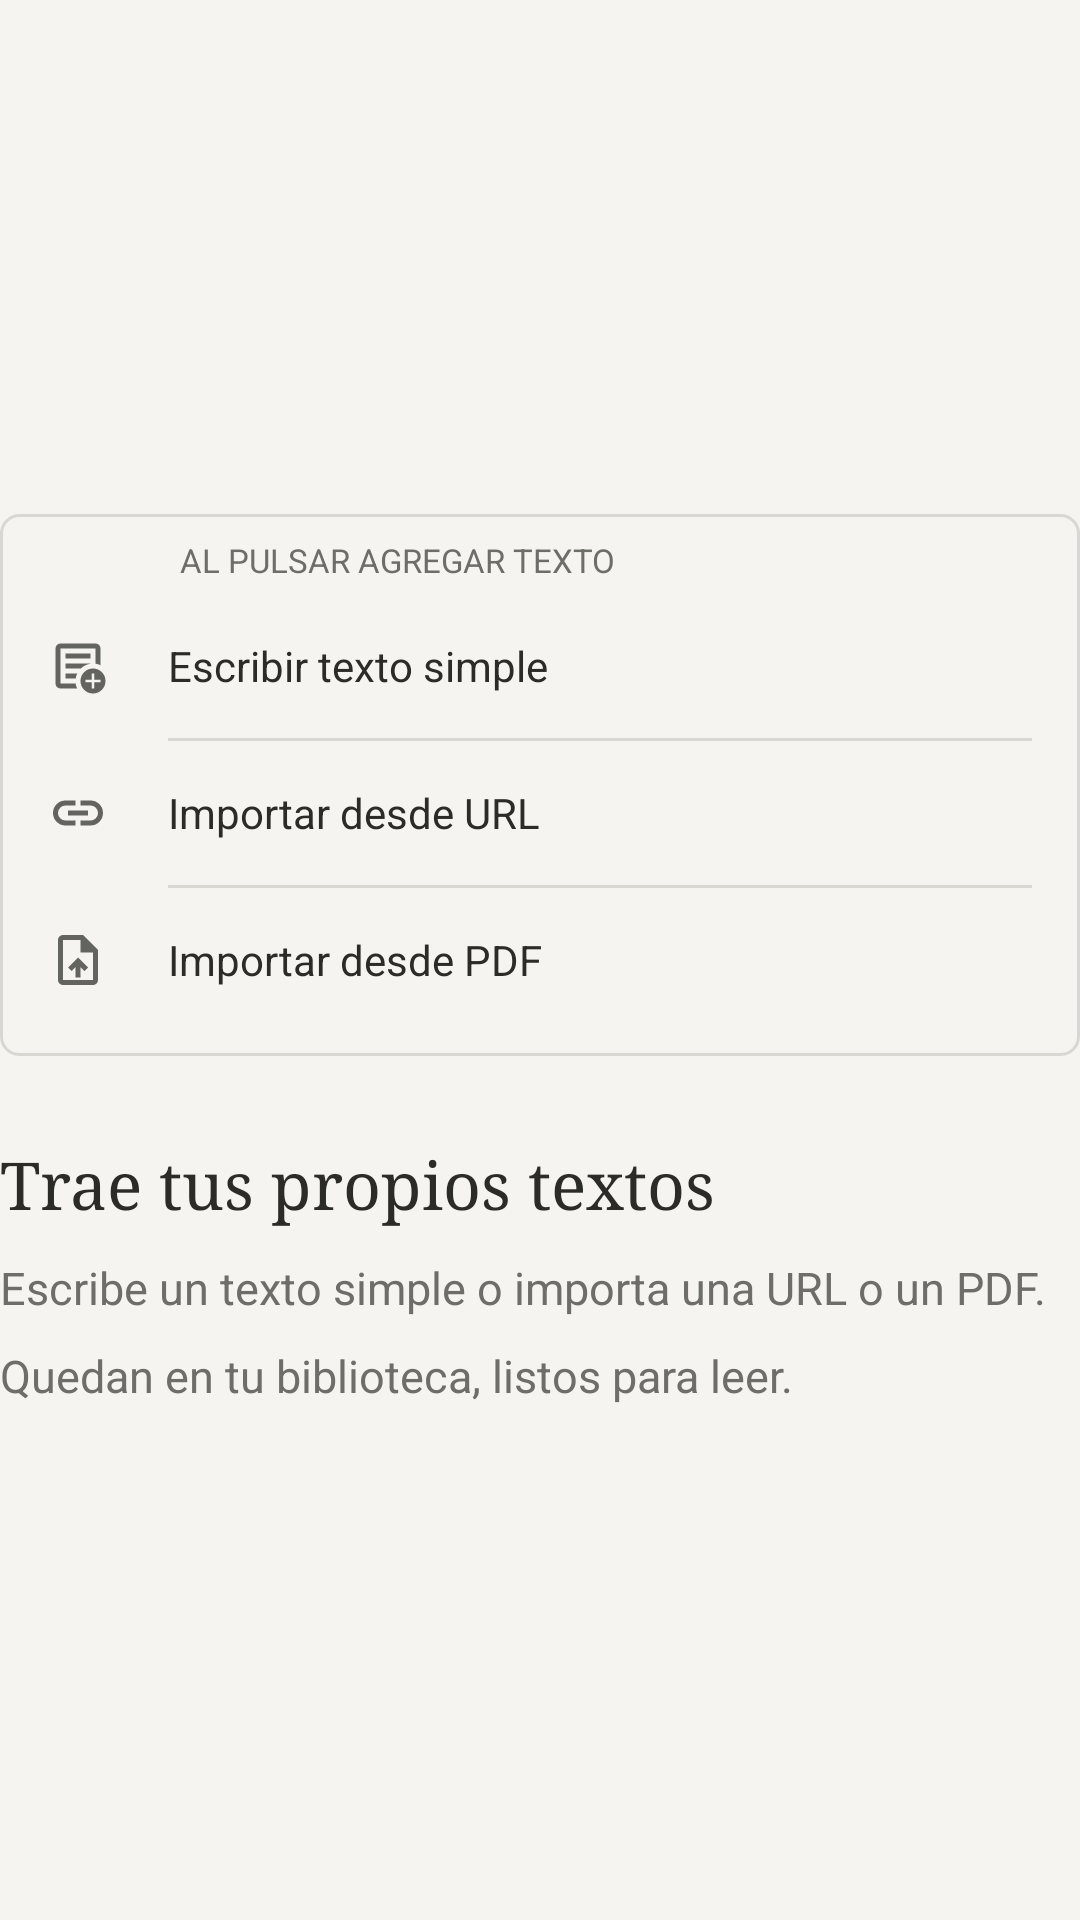

Where icons sit on this 1080x1920 app screen, as {"left": x1, "top": y1, "right": x2, "bottom": y2}:
add notes: {"left": 55, "top": 643, "right": 106, "bottom": 694}
link: {"left": 53, "top": 800, "right": 103, "bottom": 826}
upload file: {"left": 58, "top": 935, "right": 98, "bottom": 985}
